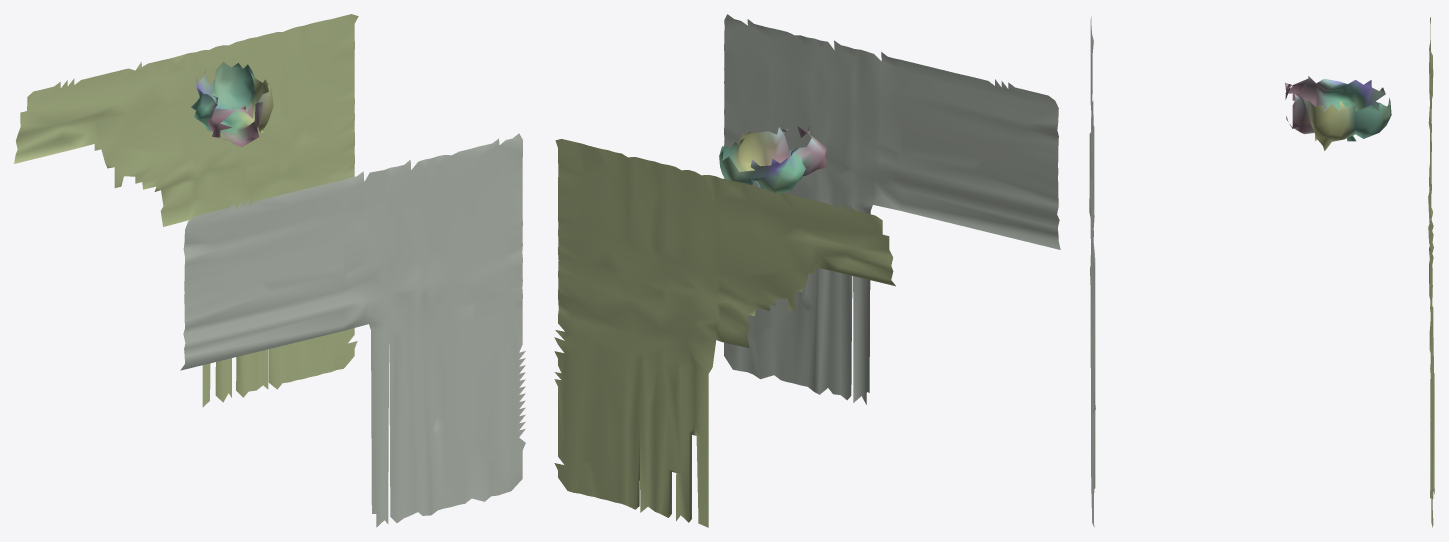
The model's file is tile_7e4ccbd5fe0e_0_-1_-1_0_lod2.glb.
3 renders of one model, left to right at view 1: azimuth 30°, elevation 25°; view 2: azimuth 150°, elevation 25°; view 3: azimuth 270°, elevation 25°, orthographic. The views are drawn at different scales.
Size of the model in its own units: 4.08 by 4.08 by 3.5.
